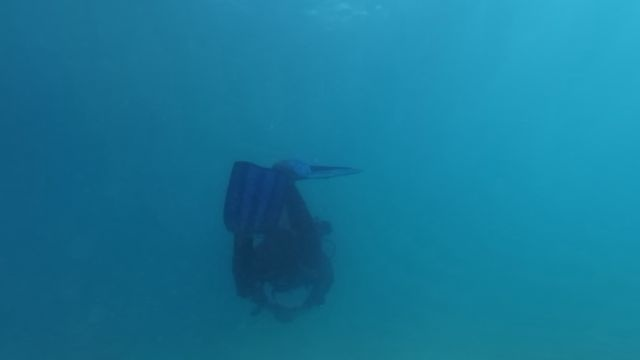Diver: (214, 141, 362, 326)
